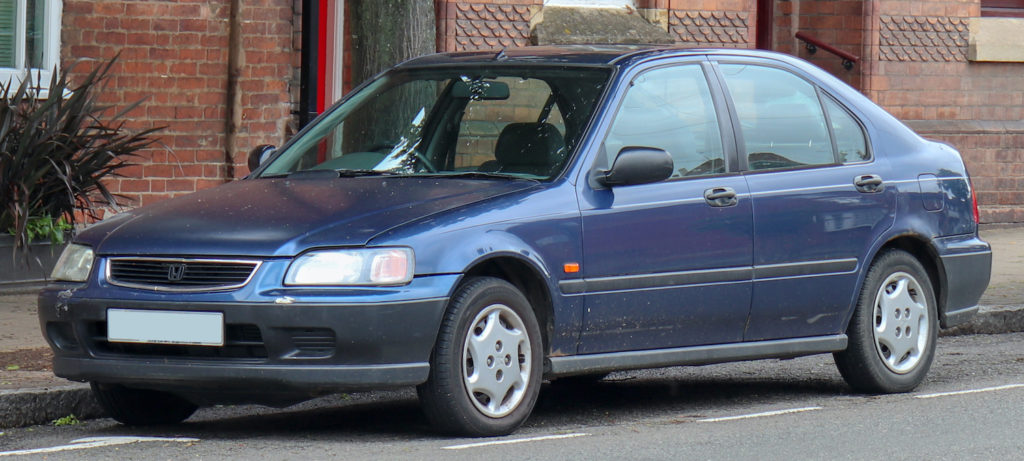car: (36, 41, 997, 437)
